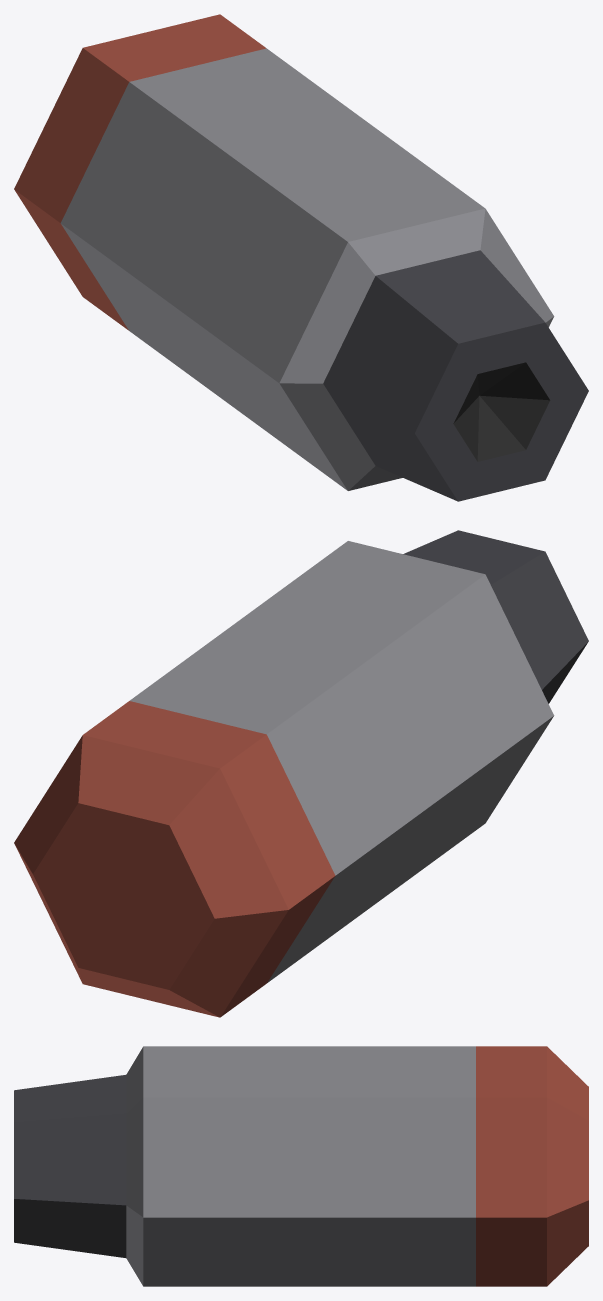
The model's file is SM_MissleReady.fbx.
3 views of the same model, one above another, from view 1: azimuth 30°, elevation 25°; view 2: azimuth 150°, elevation 25°; view 3: azimuth 270°, elevation 25° (orthographic). The views are drawn at different scales.
Visible parts, largest first — view 1: SM_MissleReady_LOD0; view 2: SM_MissleReady_LOD0; view 3: SM_MissleReady_LOD0.
Part boxes in pixels (<box>): SM_MissleReady_LOD0: <box>14,14,588,501</box>; SM_MissleReady_LOD0: <box>14,530,588,1017</box>; SM_MissleReady_LOD0: <box>14,1046,588,1286</box>.
Size of the model in its own units: 18.29 by 7.68 by 6.65.
Materials: 1 (1 with a texture image).
